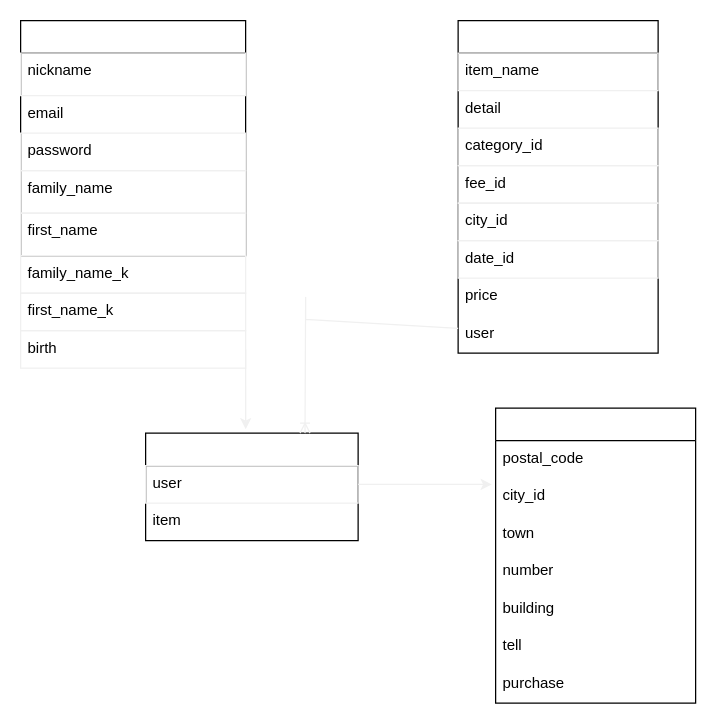
The diagram is 716 pixels wide and 724 high, and some of its shapes have lost their labels. Here are the shapes that lost their labels. From the top down, the box of each, then its label:
(19, 19, 246, 256): users
(457, 19, 658, 353): items
(144, 432, 358, 541): order
(494, 407, 696, 703): address
